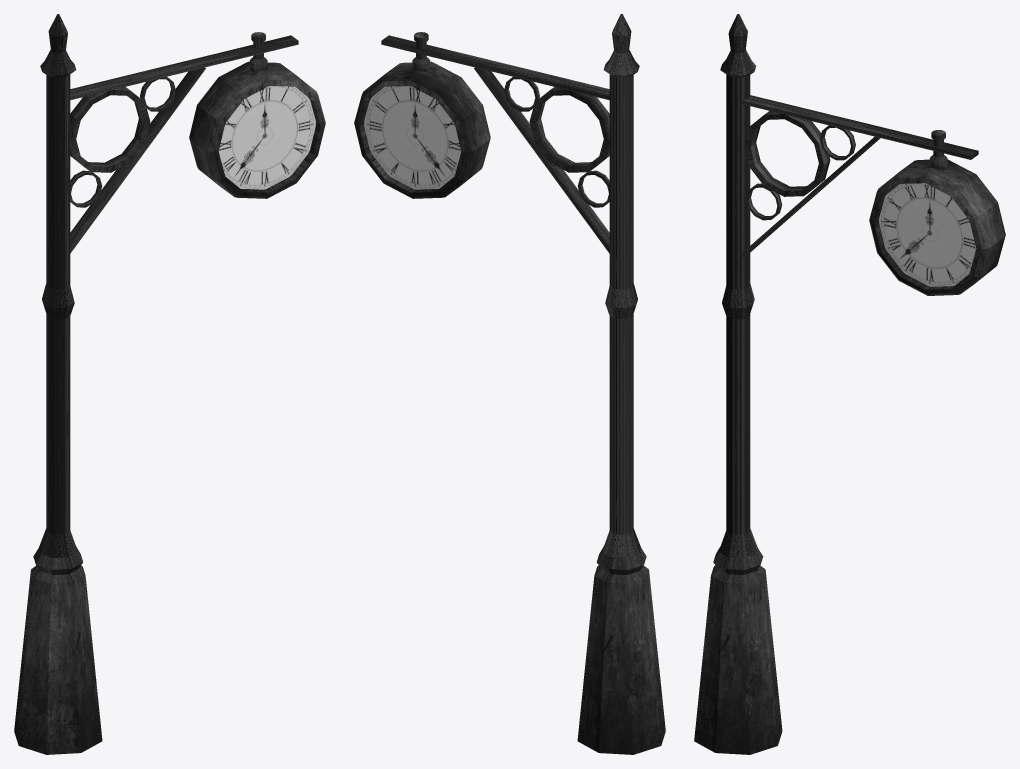
File: Clock.fbx
3 views of the same model, side by side, from view 1: azimuth 30°, elevation 25°; view 2: azimuth 150°, elevation 25°; view 3: azimuth 330°, elevation 25° (orthographic).
Parts seen in each view (by area): view 1: Clock_LOD0; view 2: Clock_LOD0; view 3: Clock_LOD0.
Part boxes in pixels (x1,y1,x2,y2): Clock_LOD0: (14, 14, 325, 754); Clock_LOD0: (354, 14, 665, 754); Clock_LOD0: (694, 14, 1005, 754).
Size of what is drawn, in the model's own units: 754 by 1741 by 200.
